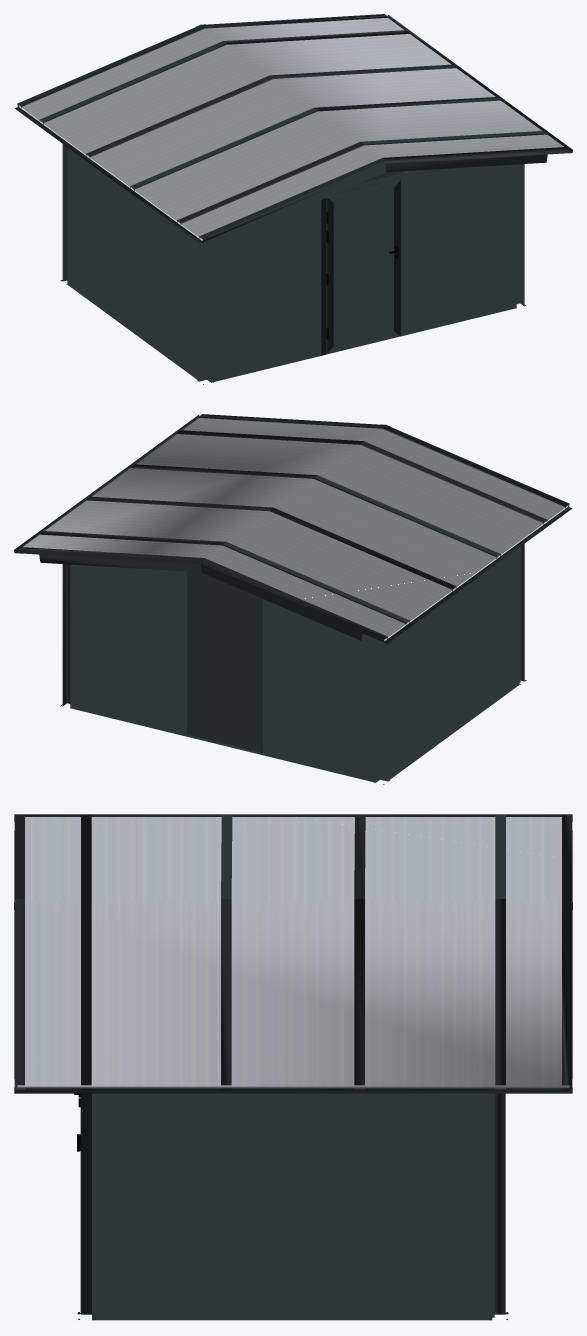
3 views of the same model, one above another, from view 1: azimuth 30°, elevation 25°; view 2: azimuth 150°, elevation 25°; view 3: azimuth 270°, elevation 25° (orthographic). The views are drawn at different scales.
Parts seen in each view (by area): view 1: priximbattable_net_abris_de_jardin_640003_abri_de_jardin_lys, folha, porta_1; view 2: priximbattable_net_abris_de_jardin_640003_abri_de_jardin_lys; view 3: priximbattable_net_abris_de_jardin_640003_abri_de_jardin_lys.
Boxes of the visible parts, x1=… form: priximbattable_net_abris_de_jardin_640003_abri_de_jardin_lys: x1=15, y1=14, x2=572, y2=384; folha: x1=326, y1=179, x2=400, y2=354; porta_1: x1=321, y1=172, x2=405, y2=355; priximbattable_net_abris_de_jardin_640003_abri_de_jardin_lys: x1=14, y1=414, x2=571, y2=784; priximbattable_net_abris_de_jardin_640003_abri_de_jardin_lys: x1=14, y1=814, x2=572, y2=1320.
Bounding box in the file's own units: 489 × 252 × 421.
1 material, 1 textured.
